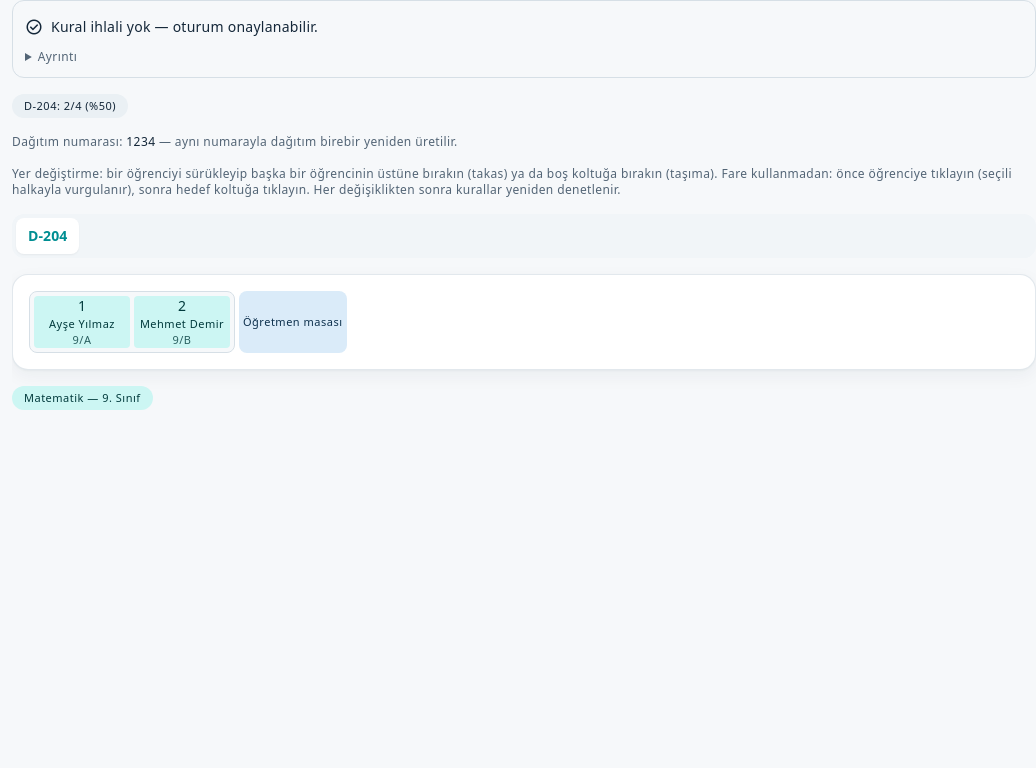
Scenario: YerlesimPaneli › takas sonrası kural ihlali kırmızı snackbar'la duyurulur
This screenshot has width=1036, height=768.
Click the button "1 Ayşe Yılmaz 9/A".
click(82, 322)  # box [34,296,130,348]
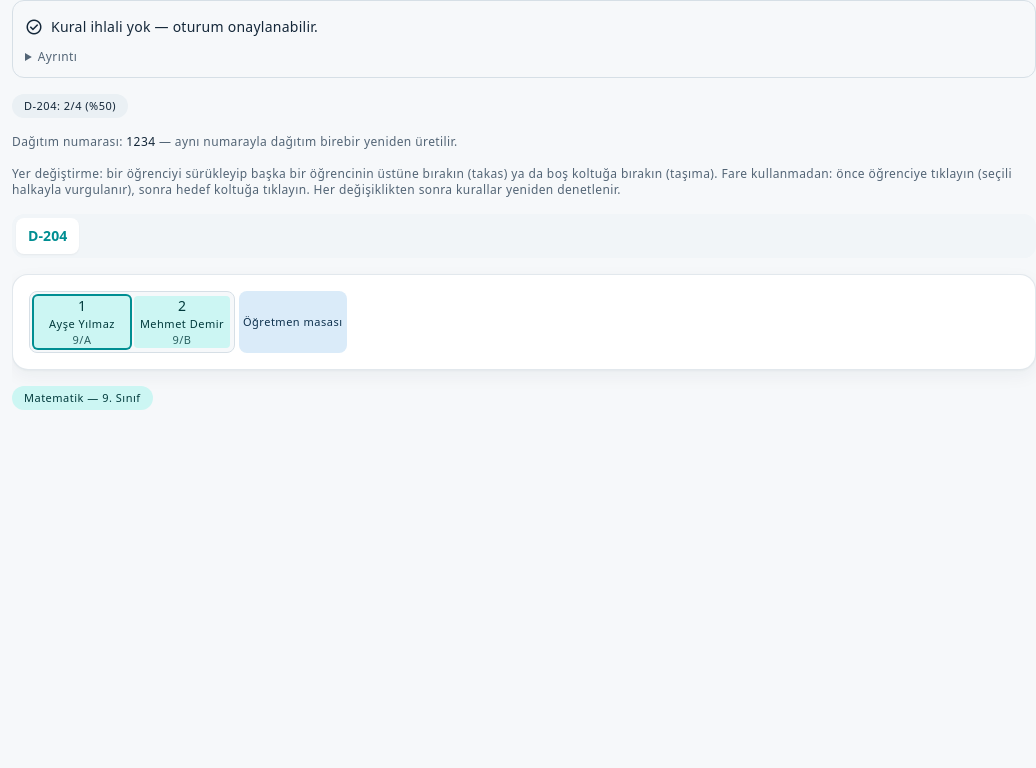
Click the button "2 Mehmet Demir 9/B".
click(182, 322)  # box [134,296,230,348]
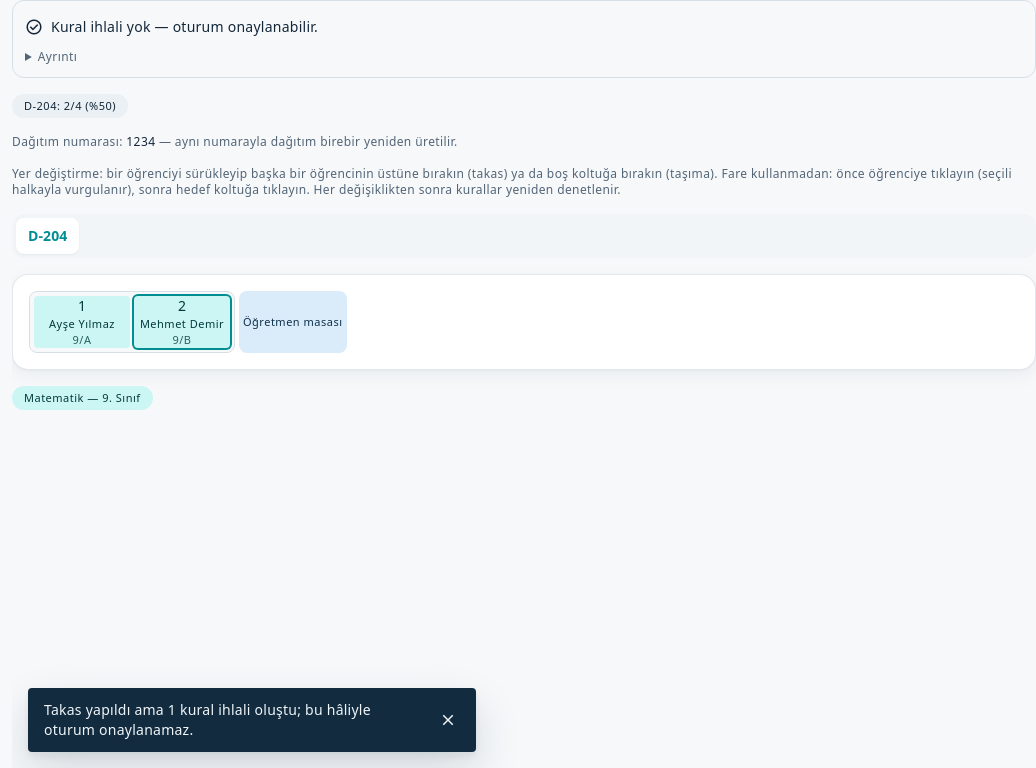
Expected: the text "Takas yapıldı ama 1 kural ihlali oluştu; bu hâliyle oturum onaylanamaz." is shown, [44,688,420,752]
